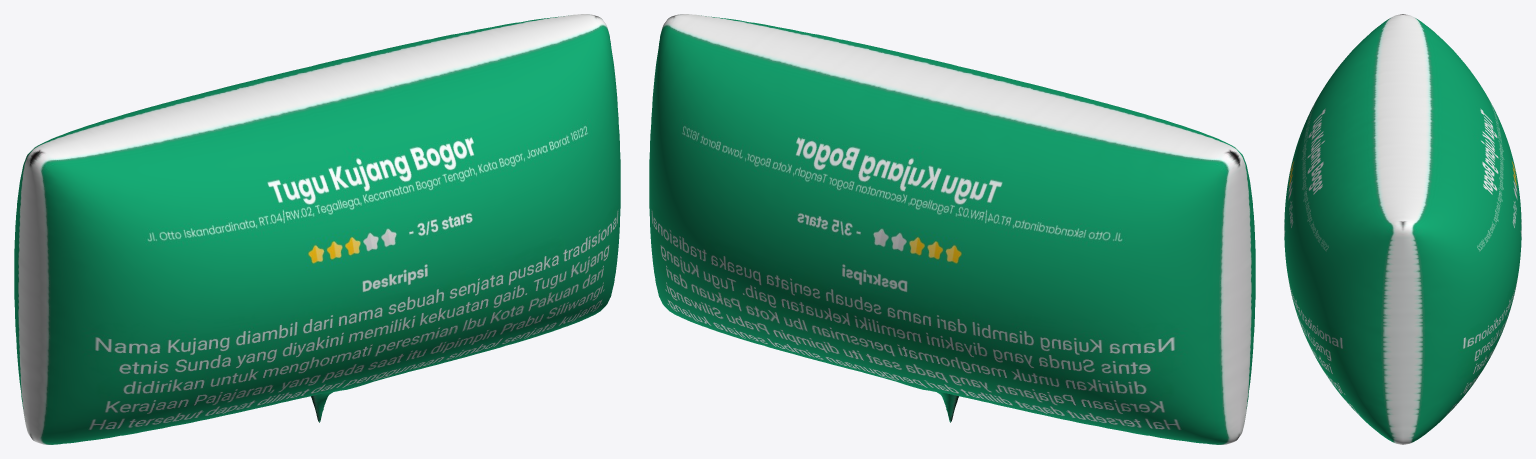
File: bds-tugu-kujang.glb
3 renders of one model, left to right at view 1: azimuth 30°, elevation 25°; view 2: azimuth 150°, elevation 25°; view 3: azimuth 270°, elevation 25°, orthographic. The views are drawn at different scales.
Visible parts, largest first — view 1: Mesh_0; view 2: Mesh_0; view 3: Mesh_0.
Part boxes in pixels (x1,y1,x2,y2): Mesh_0: (14, 14, 620, 444); Mesh_0: (649, 14, 1255, 444); Mesh_0: (1284, 14, 1521, 444).
Size of the model in its own units: 2.26 by 1.28 by 1.06.
Materials: 1 (1 with a texture image).
